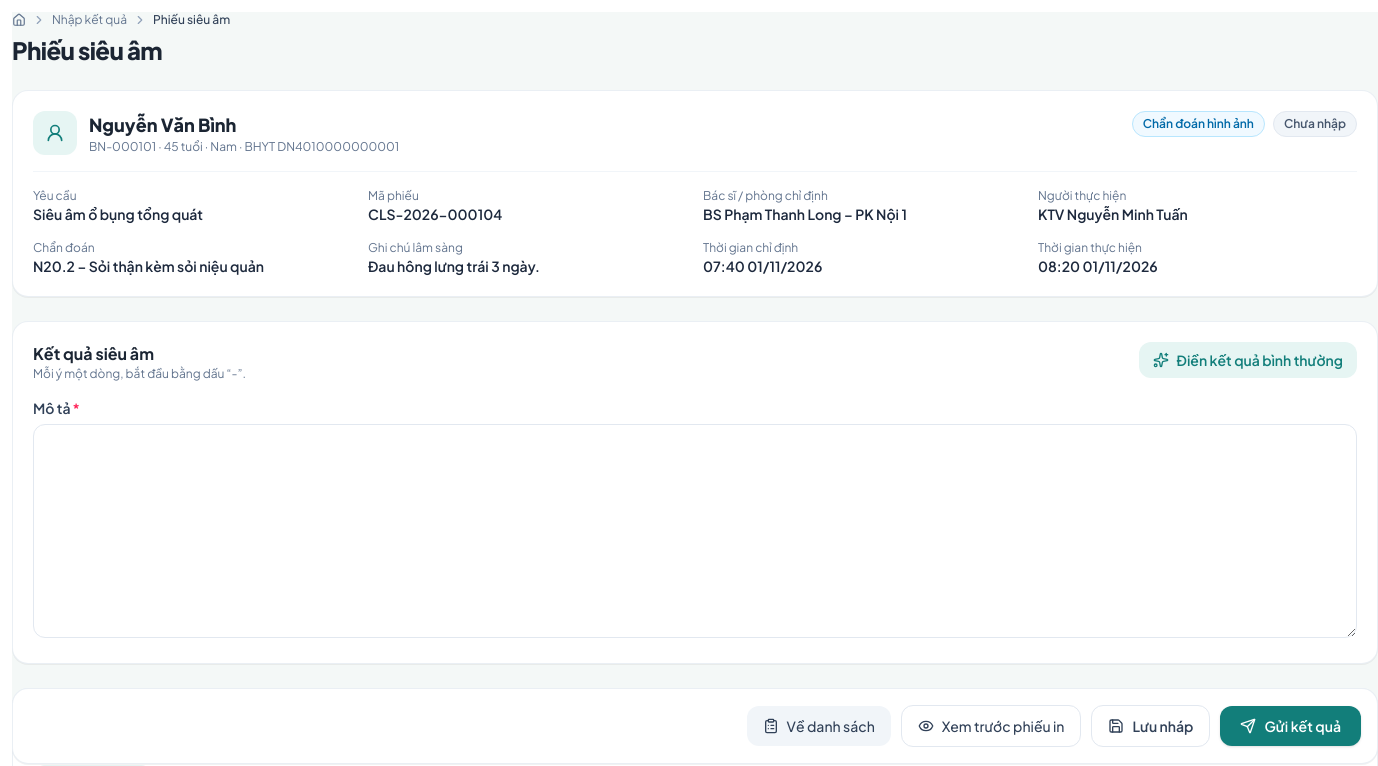
ParaclinicalResultPage (UC-67, UC-68) › uses one free-text description for ultrasound, like X-ray, and fills it with the normal text
Click the button "Điền kết quả bình thường" at x=1248, y=360, box [1139,342,1357,378]
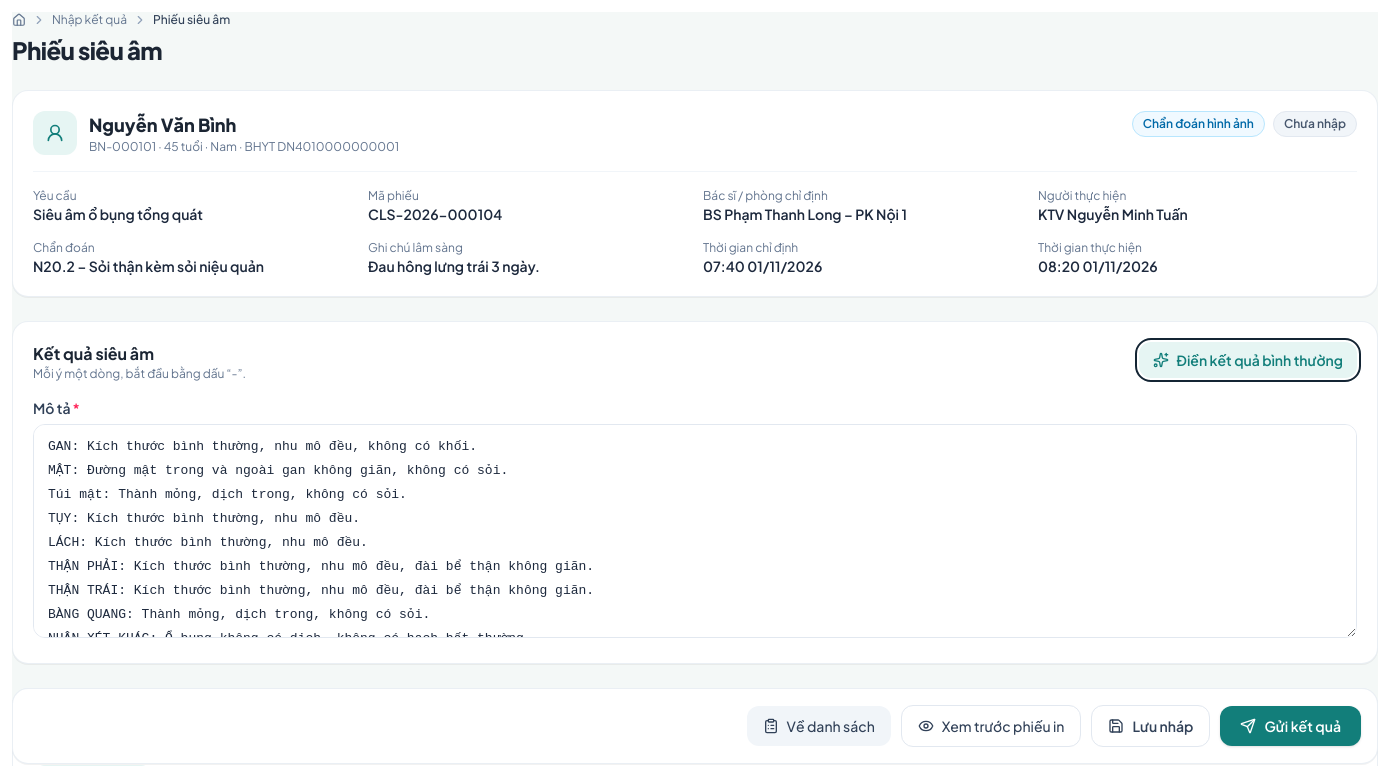
Click the button "Lưu nháp" at x=1151, y=726, box [1092,705,1210,747]
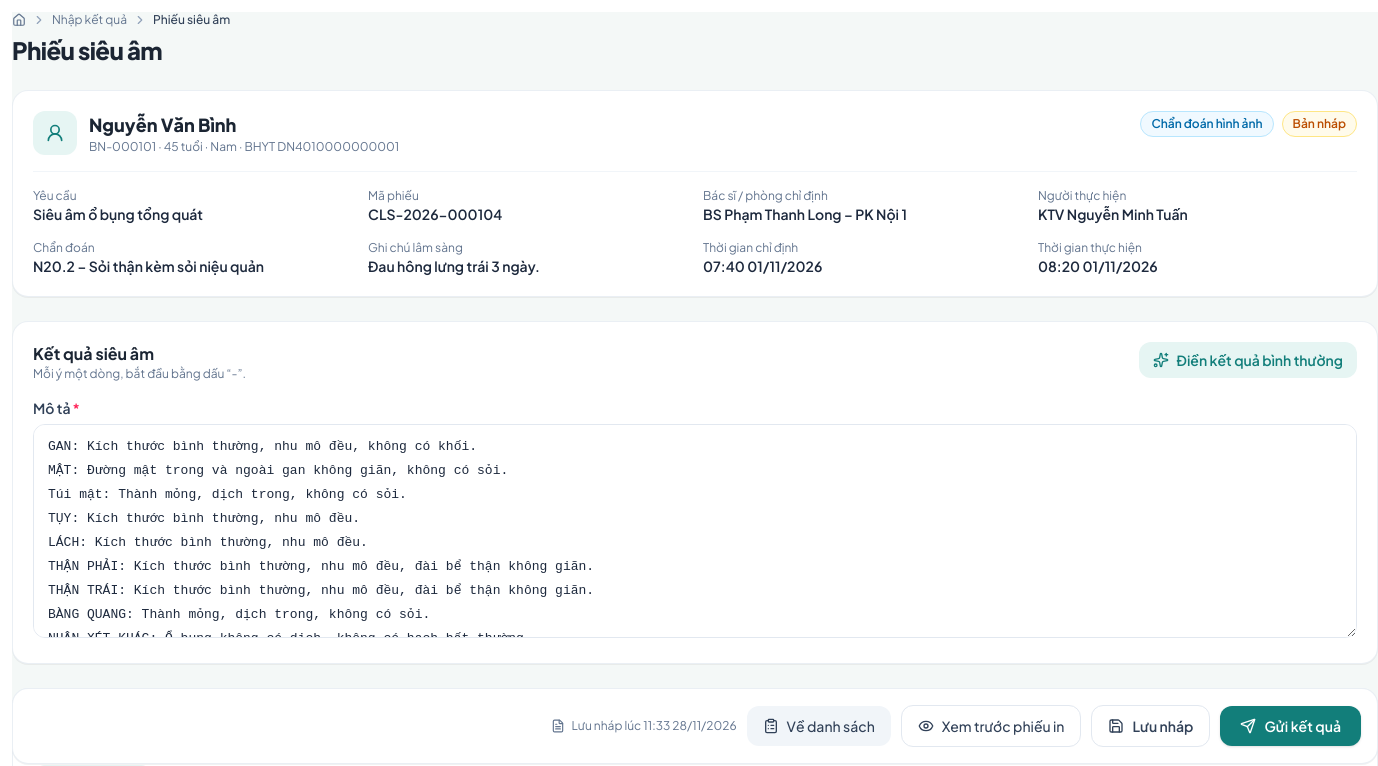
expect the text "Lưu nháp lúc 11:33 28/11/2026" is shown: met, box [551,718,737,734]
